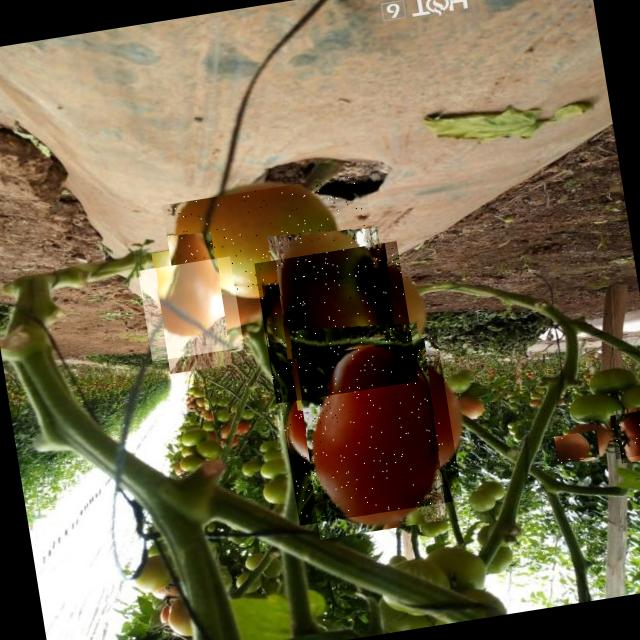Ripe Tomato: (274, 336, 463, 526), (138, 256, 244, 362), (554, 430, 601, 464), (609, 408, 640, 459)
Unripe Tomato: (162, 173, 380, 306), (254, 241, 418, 404)
